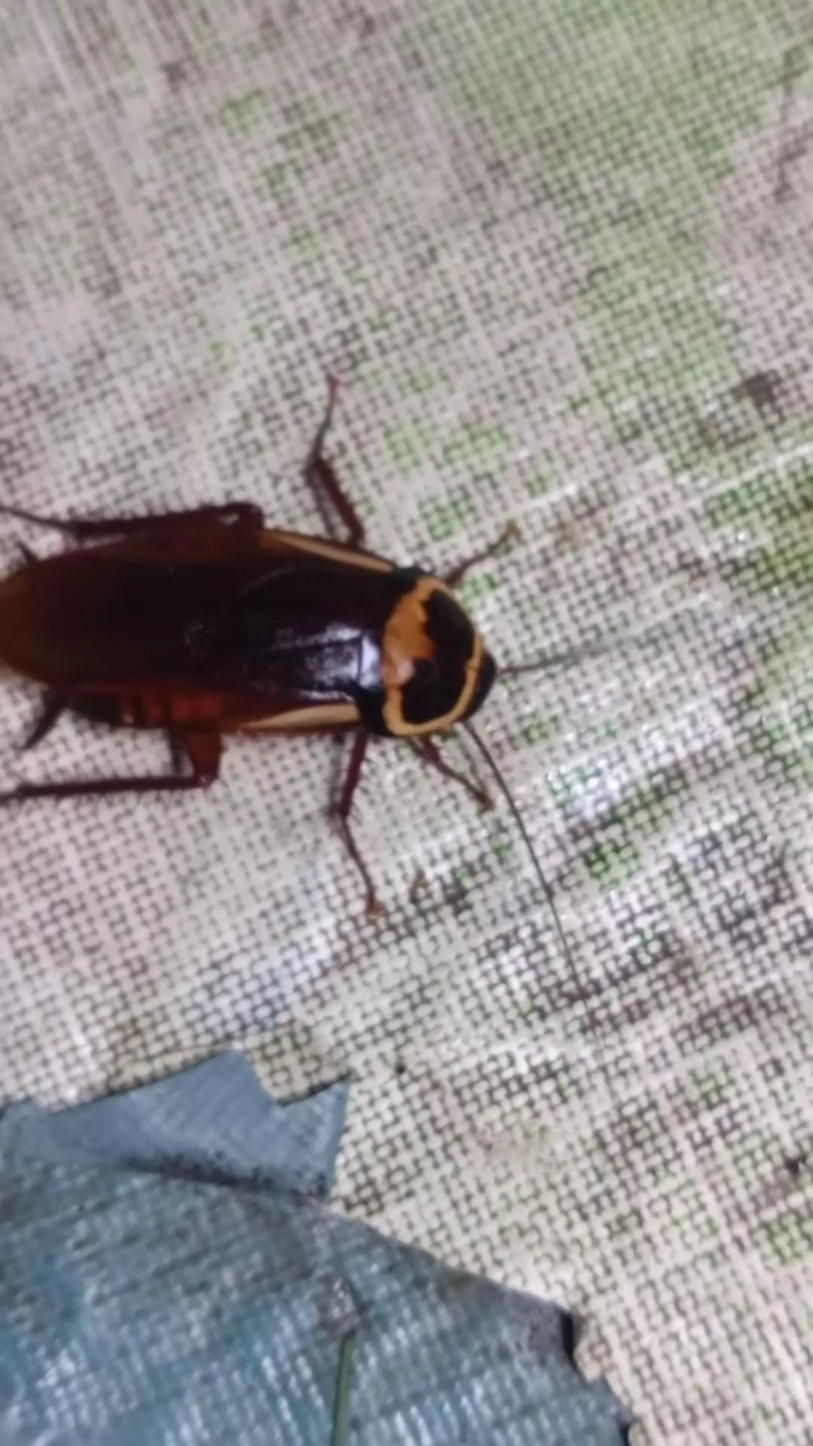cockroach: (0, 362, 813, 967)
